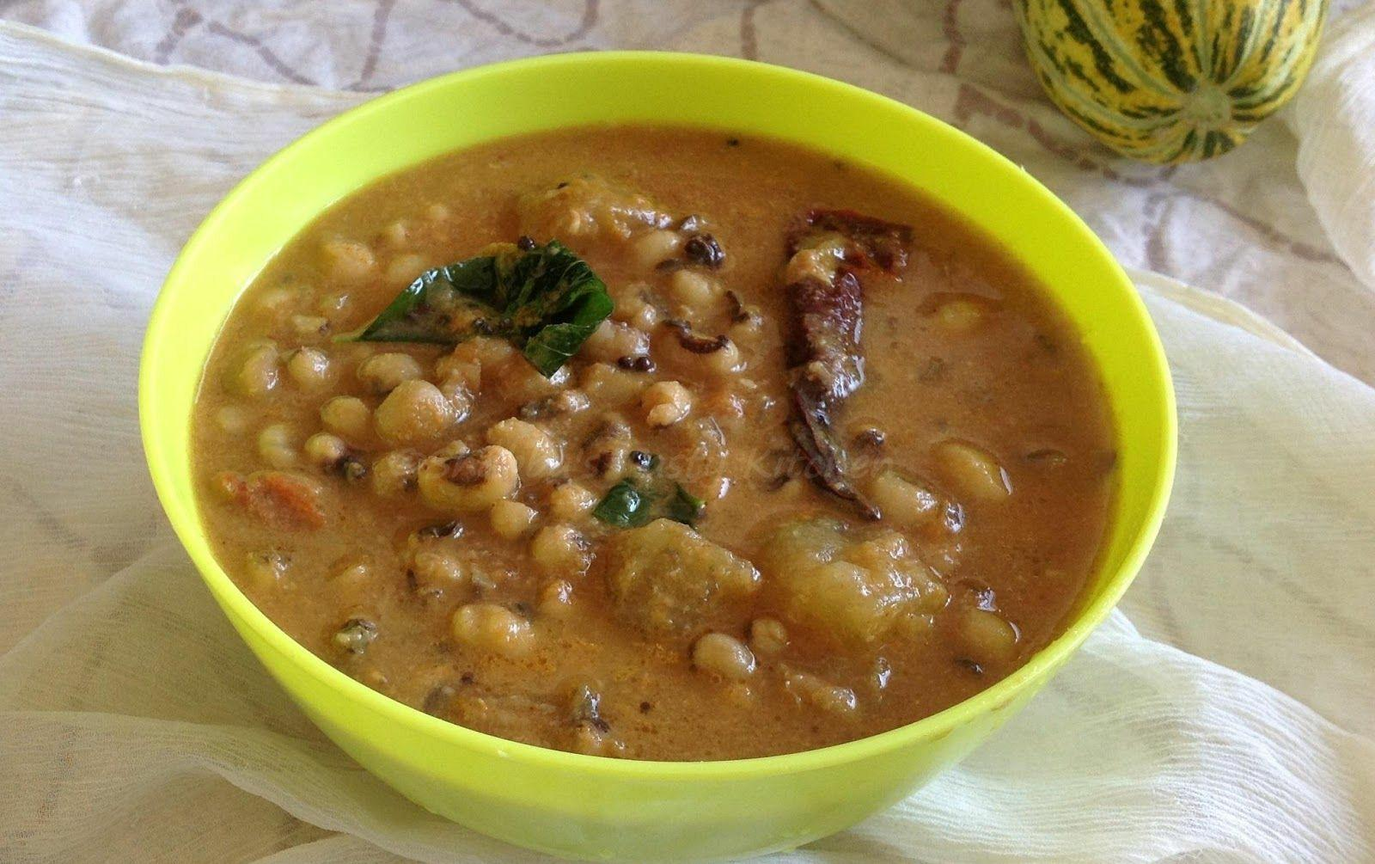RajmaCurry: (193, 120, 1118, 761)
